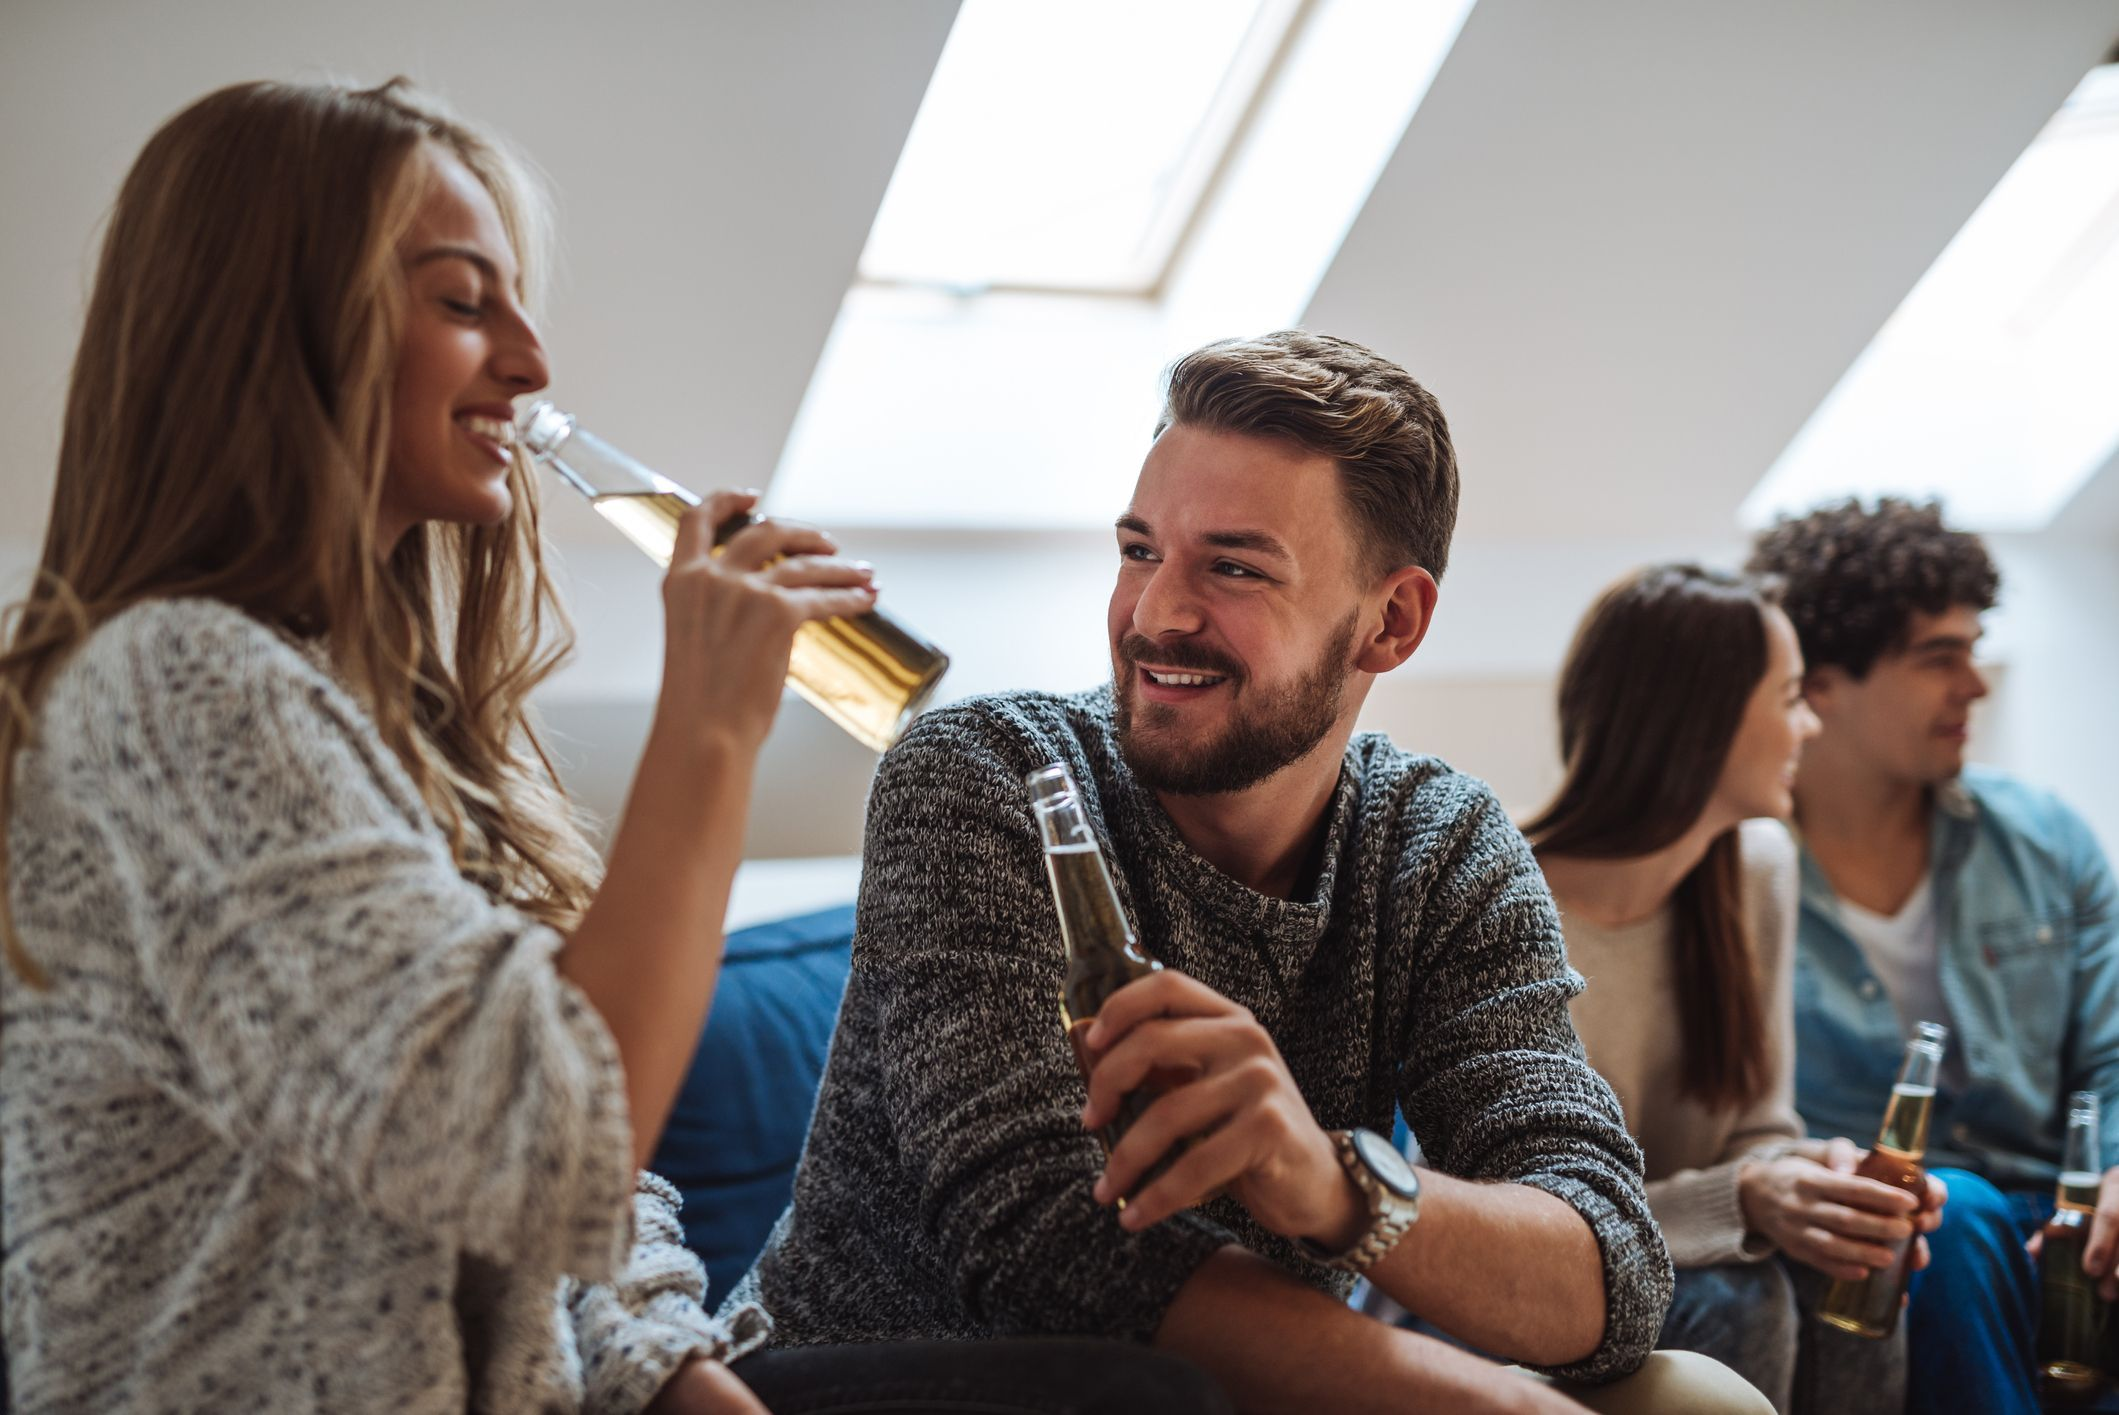without_mask: (1093, 413, 1352, 794), (331, 170, 555, 541), (1848, 585, 2003, 794), (1743, 623, 1827, 832)
